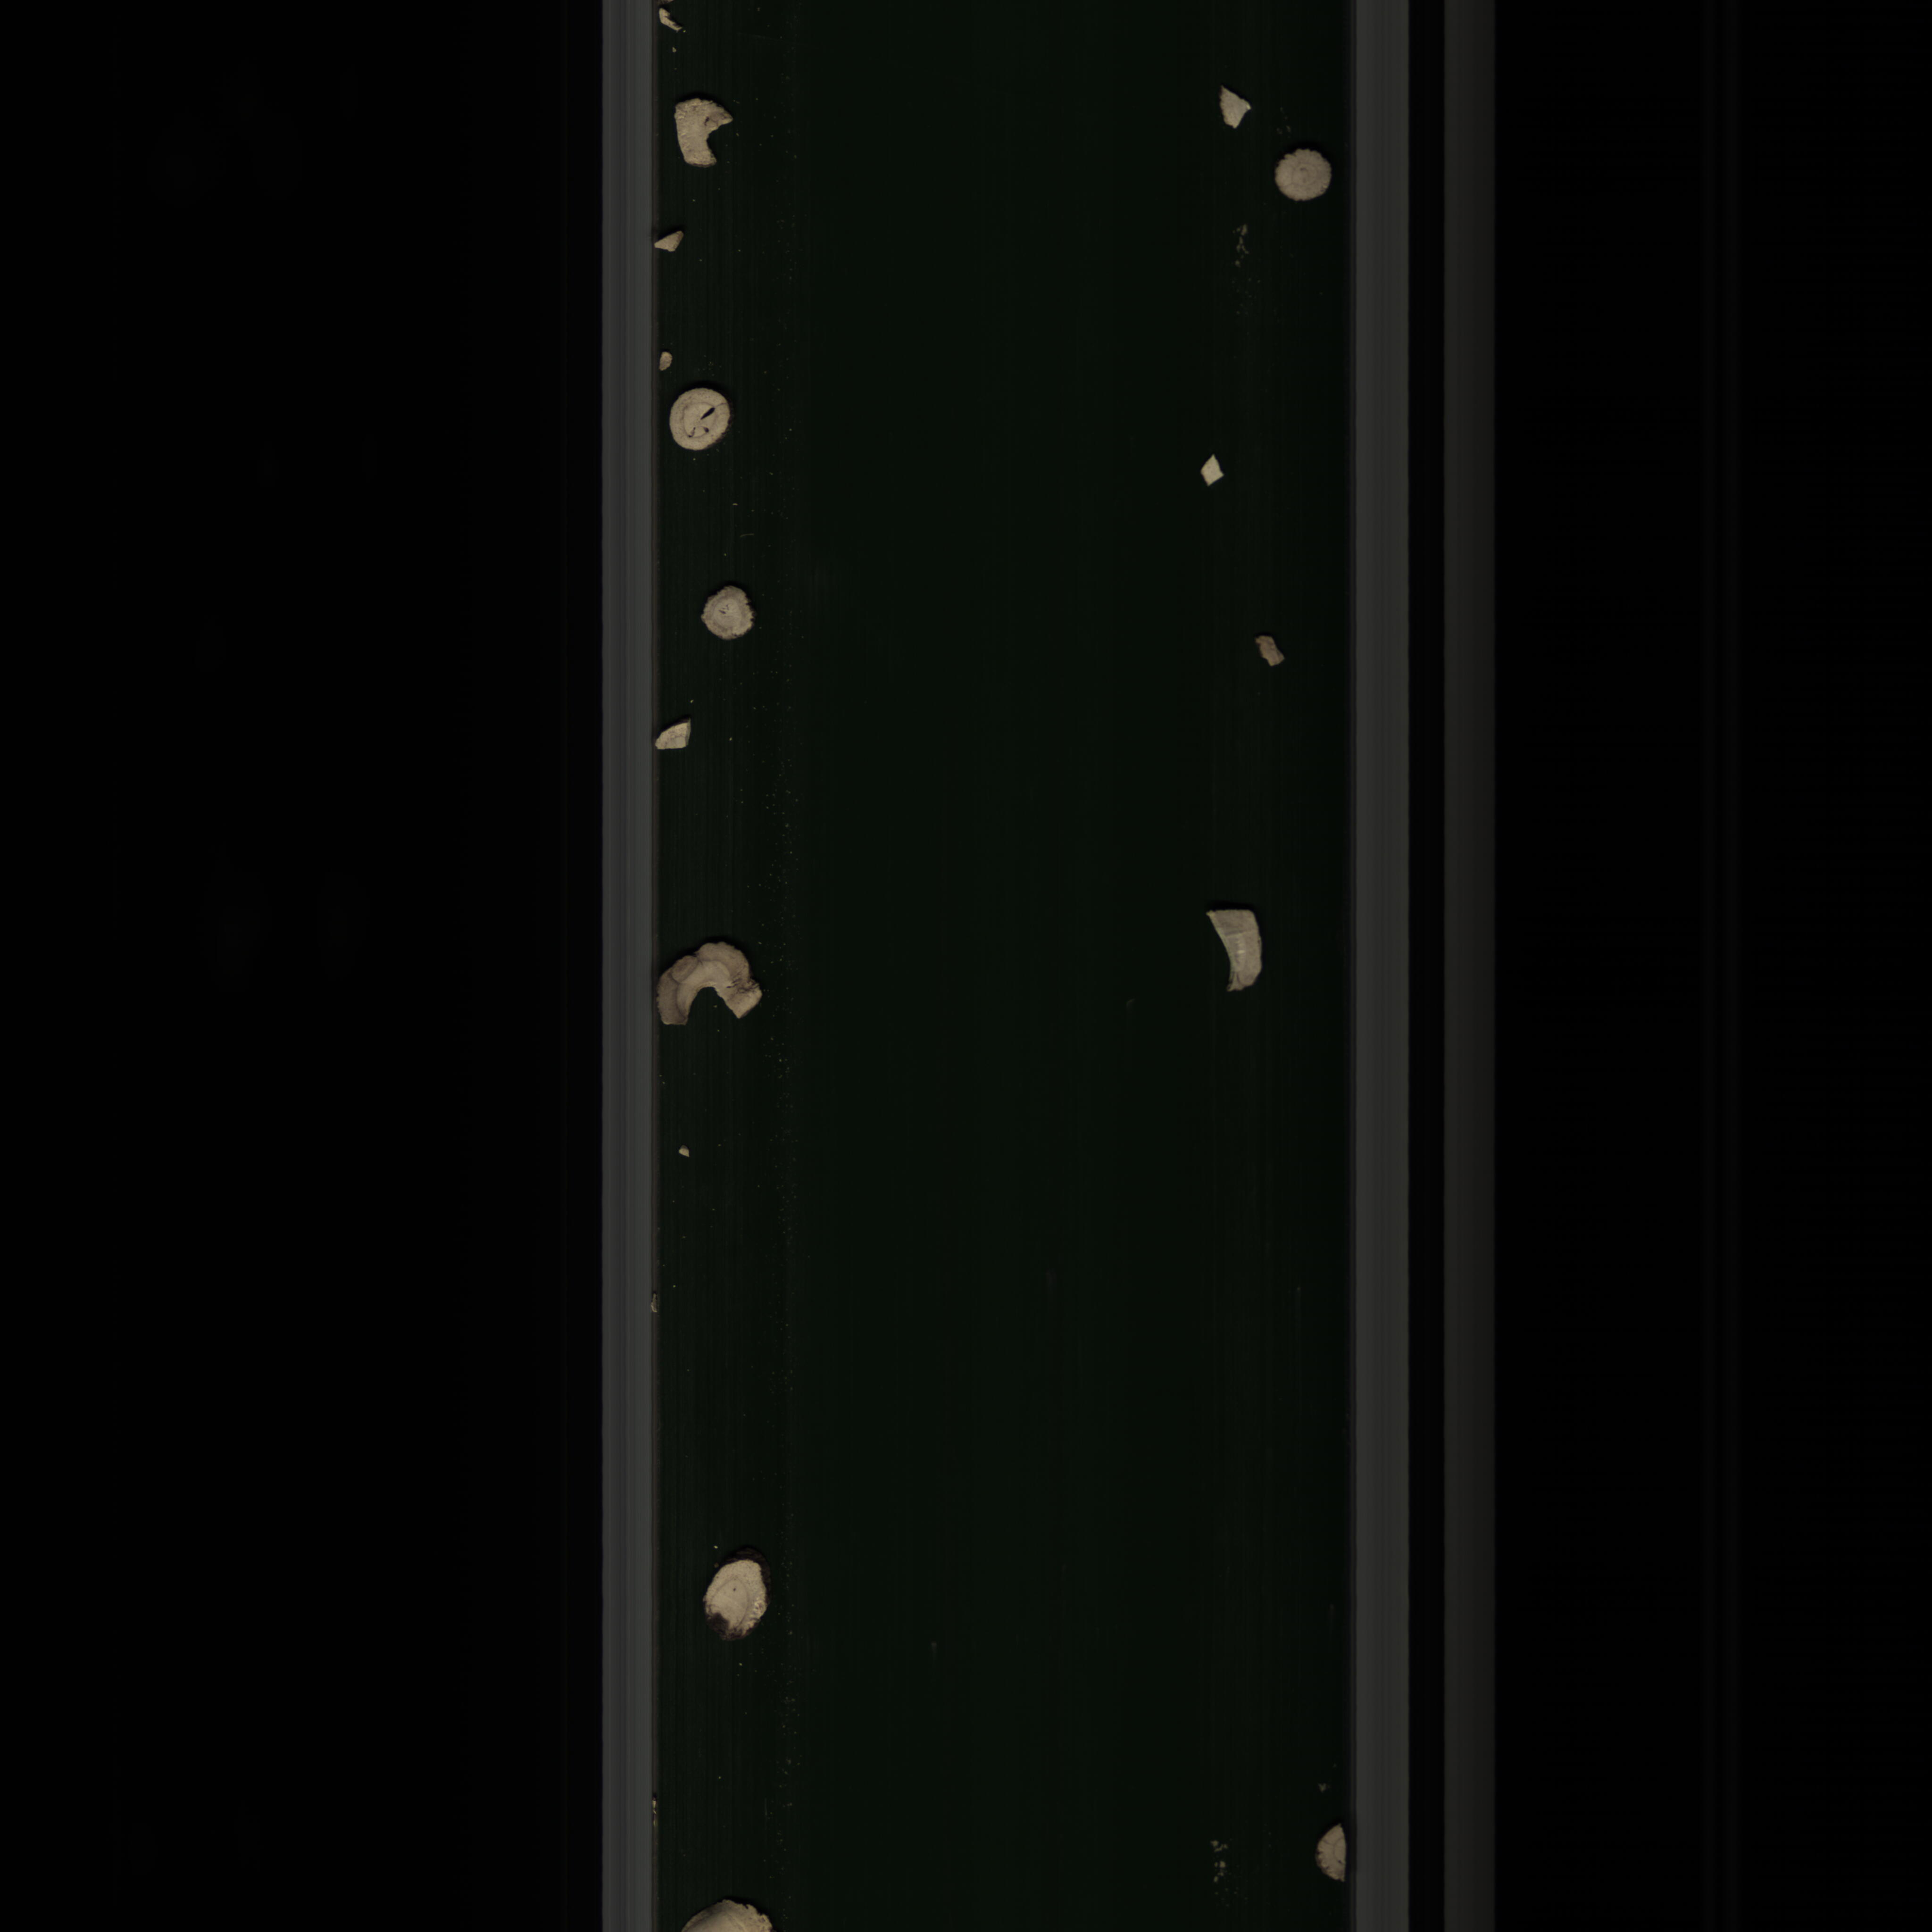debris: (655, 939, 770, 1035), (1200, 904, 1267, 996), (662, 96, 741, 172), (1210, 74, 1260, 142), (1307, 1819, 1350, 1893), (648, 717, 706, 761), (1244, 632, 1299, 672), (1191, 442, 1224, 494), (651, 226, 690, 271)
hole: (667, 379, 741, 462)
